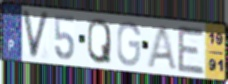5: (53, 13, 76, 62)
A: (145, 24, 180, 72)
E: (176, 23, 206, 76)
G: (115, 20, 142, 68)
Q: (86, 17, 113, 66)
V: (20, 8, 51, 61)
